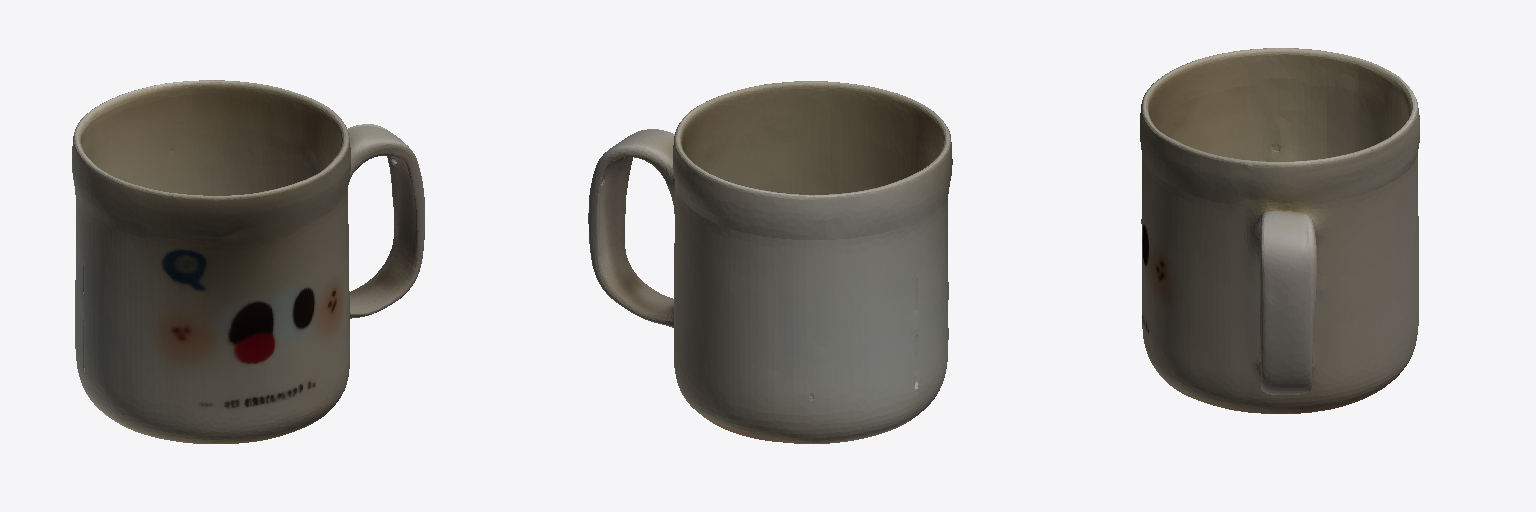
3 views of the same model, side by side, from view 1: azimuth 30°, elevation 25°; view 2: azimuth 150°, elevation 25°; view 3: azimuth 270°, elevation 25° (orthographic).
Parts seen in each view (by area): view 1: geometry_0; view 2: geometry_0; view 3: geometry_0.
Part boxes in pixels (x1,y1,x2,y2): geometry_0: (72,80,424,443); geometry_0: (588,81,952,443); geometry_0: (1140,48,1419,413).
Bounding box in the file's own units: 118 × 88.28 × 86.71.
Materials: 1 (1 with a texture image).